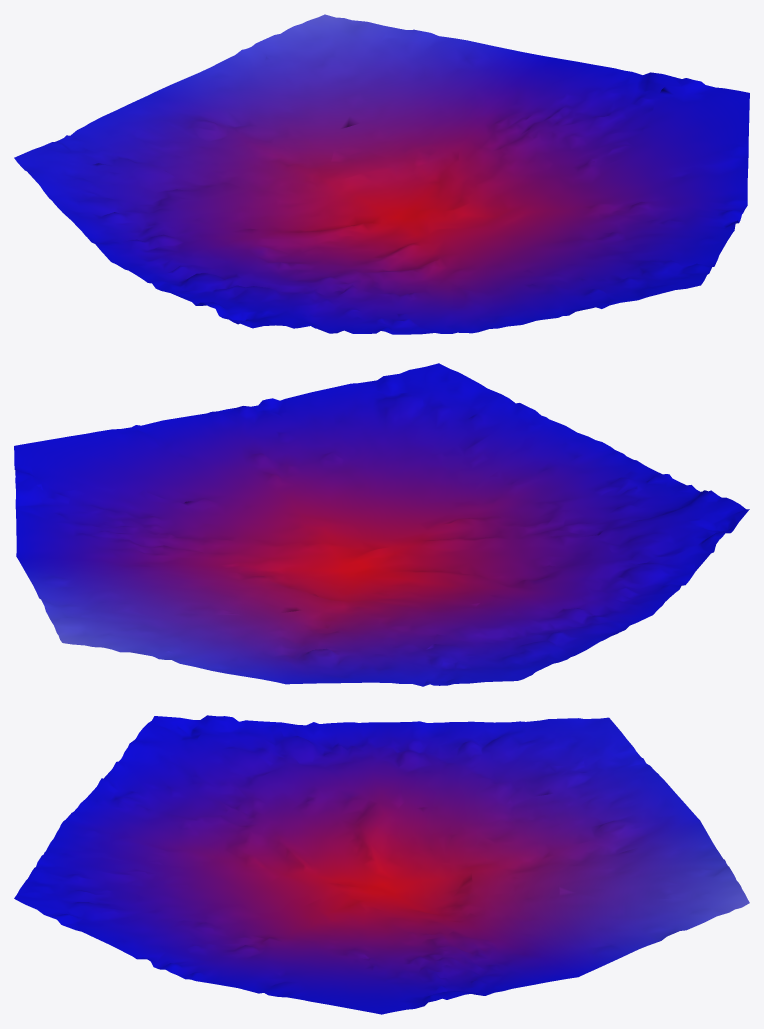
Rendered from Hex_34.fbx.
3 views of the same model, one above another, from view 1: azimuth 30°, elevation 25°; view 2: azimuth 150°, elevation 25°; view 3: azimuth 270°, elevation 25° (orthographic). The views are drawn at different scales.
Parts seen in each view (by area): view 1: Hex_34; view 2: Hex_34; view 3: Hex_34.
Part boxes in pixels (x1,y1,x2,y2): Hex_34: [14, 14, 749, 334]; Hex_34: [14, 363, 749, 686]; Hex_34: [14, 715, 749, 1014].
Bounding box in the file's own units: 411 × 26.66 × 419.
